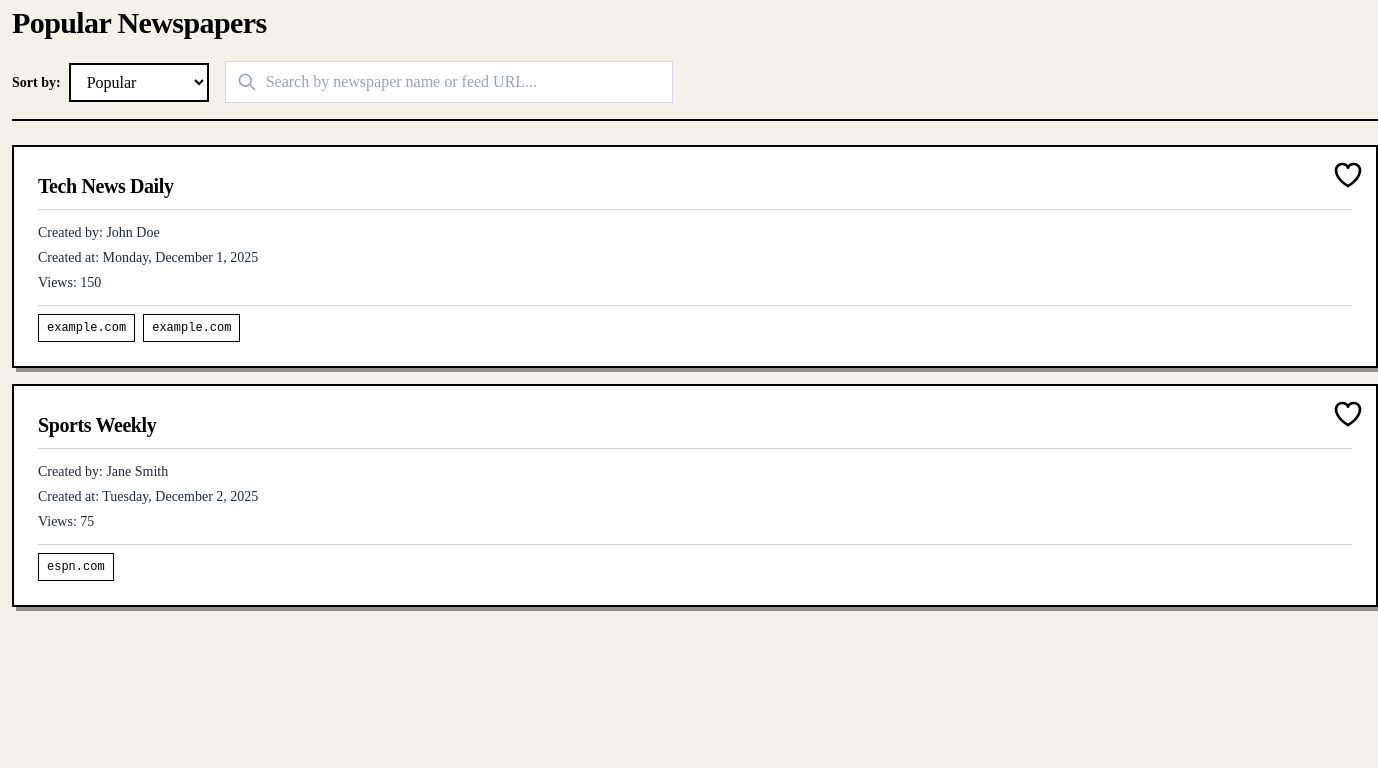
Scenario: PopularNewspapers › Search Filter › filters newspapers by search query in feed URL
The width and height of the screenshot is (1378, 768).
Expected: the heading "Tech News Daily" is shown, [38,171,1352,210]
// Search for "espn"
Type "espn" into the field with placeholder "Search by newspaper name or feed URL...".
click(449, 82); type("espn")  # box [225,61,673,103]
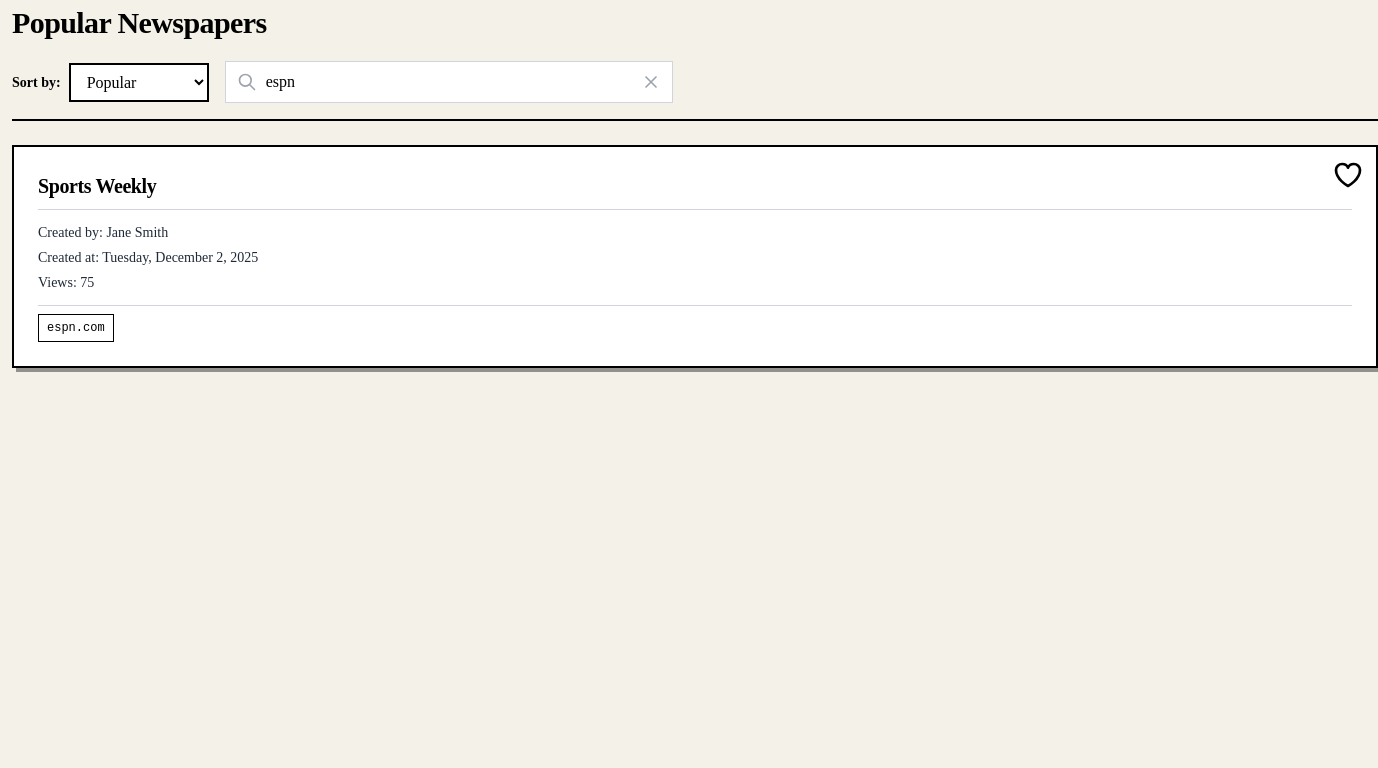
Expected: the heading "Sports Weekly" is shown, [38,171,1352,210]
Expected: the heading "Tech News Daily" is gone
